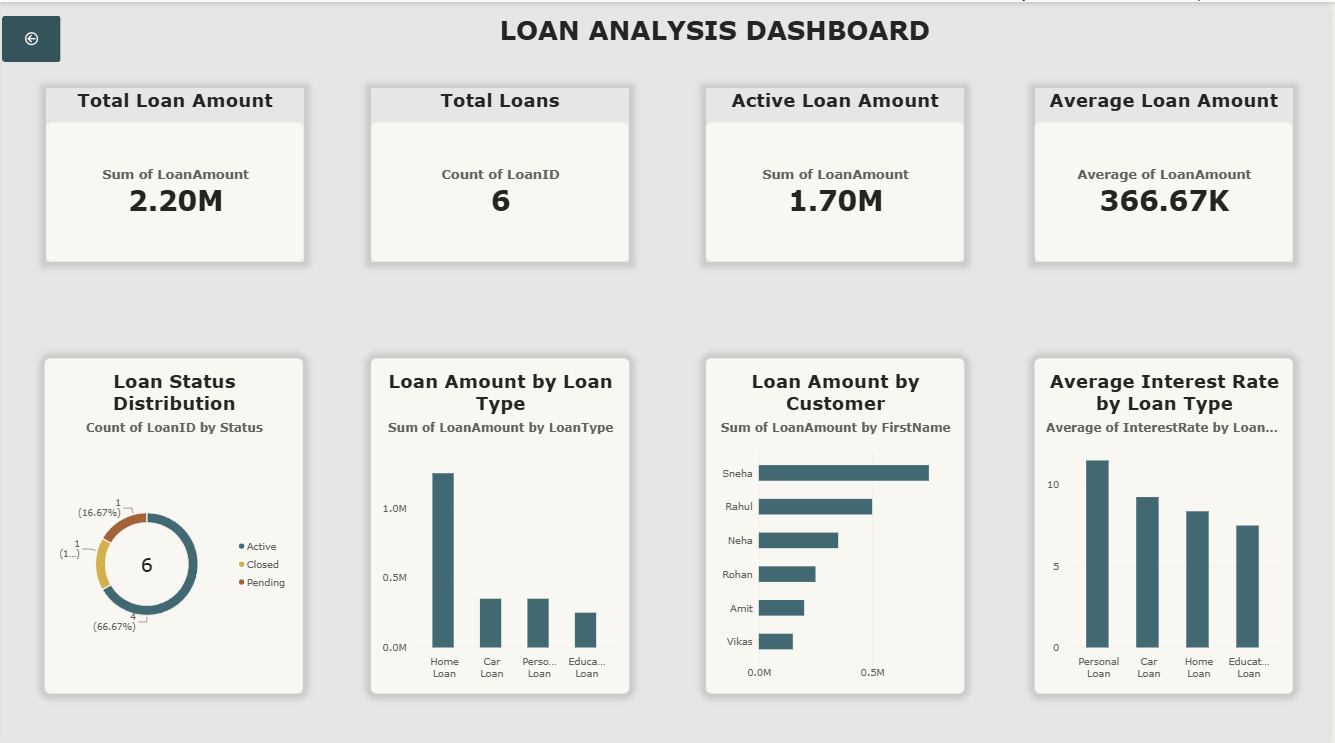

Layout of this report page (visuals, bound fields, positions):
{"tool":"powerbi","page":{"name":"Loan Analysis","canvas":[1920,1080],"ordinal":3},"visuals":[{"type":"cardVisual","title":"Total Loan Amount","fields":{"Data":["Sum(bankmanagementsystem loans.LoanAmount)"]},"box":[63.8,125.6,374.6,251.1],"z":0},{"type":"cardVisual","title":"Total Loans","fields":{"Data":["CountNonNull(bankmanagementsystem loans.LoanID)"]},"box":[533.1,125.6,374.6,251.1],"z":1000},{"type":"cardVisual","title":"Active Loan Amount","fields":{"Data":["Sum(bankmanagementsystem loans.LoanAmount)"]},"box":[1018.9,125.6,374.6,251.1],"z":2000},{"type":"cardVisual","title":"Average Loan Amount","fields":{"Data":["Avg(bankmanagementsystem loans.LoanAmount)"]},"box":[1494.3,125.6,374.6,251.1],"z":3000},{"type":"donutChart","title":"Loan Status Distribution","fields":{"Category":["bankmanagementsystem loans.Status"],"Y":["CountNonNull(bankmanagementsystem loans.LoanID)"]},"box":[61.7,516.6,374.6,485.8],"z":4000},{"type":"clusteredColumnChart","title":"Loan Amount by Loan Type","fields":{"Category":["bankmanagementsystem loans.LoanType"],"Y":["Sum(bankmanagementsystem loans.LoanAmount)"]},"box":[533.1,516.6,374.6,485.8],"z":5000},{"type":"clusteredBarChart","title":"Loan Amount by Customer","fields":{"Category":["bankmanagementsystem customers.FirstName"],"Y":["Sum(bankmanagementsystem loans.LoanAmount)"]},"box":[1018.9,516.6,374.6,485.8],"z":6000},{"type":"clusteredColumnChart","title":"Average Interest Rate by Loan Type","fields":{"Category":["bankmanagementsystem loans.LoanType"],"Y":["Avg(bankmanagementsystem loans.InterestRate)"]},"box":[1494.3,516.6,374.6,485.8],"z":7000},{"type":"textbox","box":[100,100,300,300],"z":8000},{"type":"textbox","box":[100,100,300,300],"z":9000},{"type":"textbox","box":[100,100,300,300],"z":10000},{"type":"textbox","box":[100.9,100.9,298.5,298.5],"z":11000},{"type":"textbox","box":[720.4,18.5,658.7,82.3],"z":12000}]}

Visuals, with their boxes in screenshot pixels (x1, y1, x2, y2), scaled from the page's 1920x1080 canvas onto the 1335x743 screenshot:
"Total Loan Amount" cardVisual: select_region(44, 86, 305, 259)
"Total Loans" cardVisual: select_region(371, 86, 631, 259)
"Active Loan Amount" cardVisual: select_region(708, 86, 969, 259)
"Average Loan Amount" cardVisual: select_region(1039, 86, 1299, 259)
"Loan Status Distribution" donutChart: select_region(43, 355, 303, 690)
"Loan Amount by Loan Type" clusteredColumnChart: select_region(371, 355, 631, 690)
"Loan Amount by Customer" clusteredBarChart: select_region(708, 355, 969, 690)
"Average Interest Rate by Loan Type" clusteredColumnChart: select_region(1039, 355, 1299, 690)
textbox: select_region(70, 69, 278, 275)
textbox: select_region(70, 69, 278, 275)
textbox: select_region(70, 69, 278, 275)
textbox: select_region(70, 69, 278, 275)
textbox: select_region(501, 13, 959, 69)
